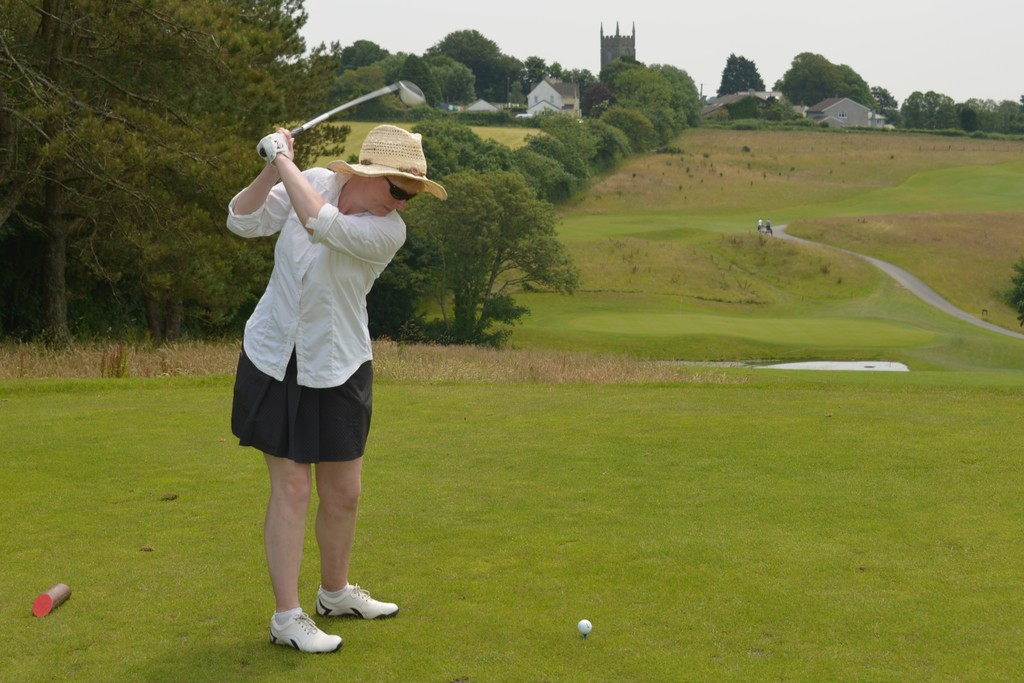Ball: (578, 619, 595, 634)
